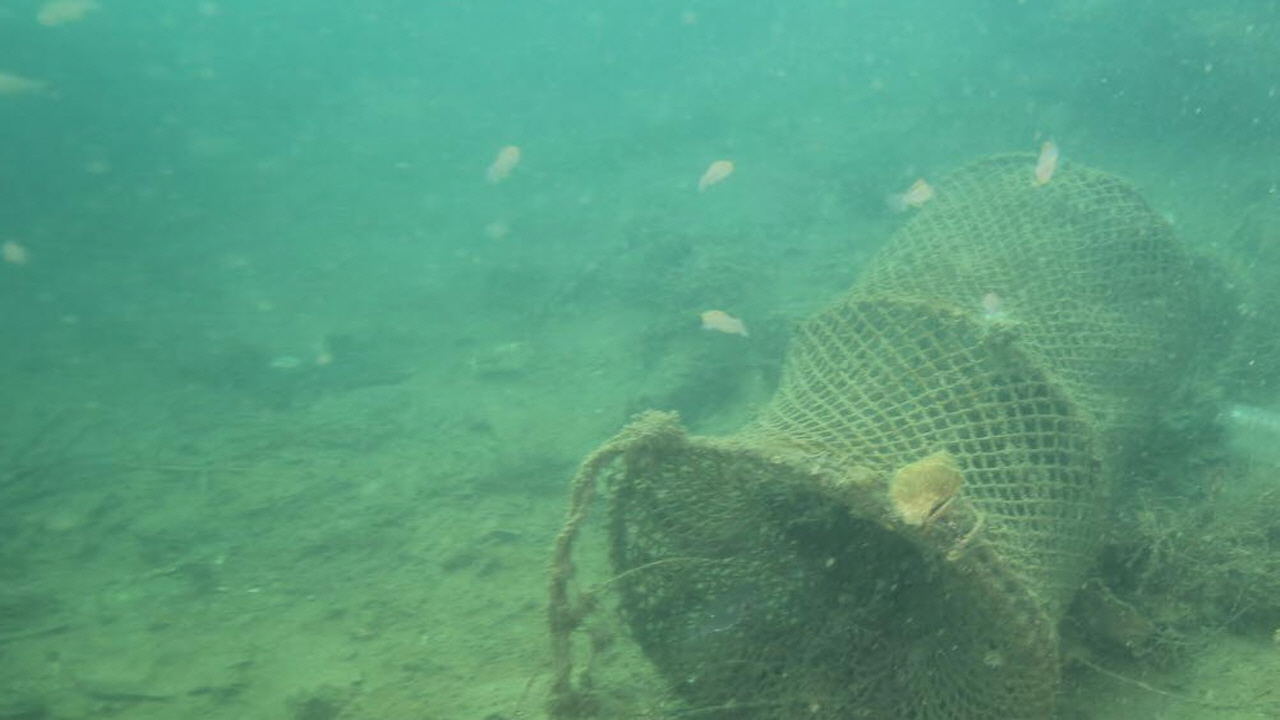bundle of ropes: (543, 438, 626, 720)
spring fish trap: (606, 152, 1195, 719)
